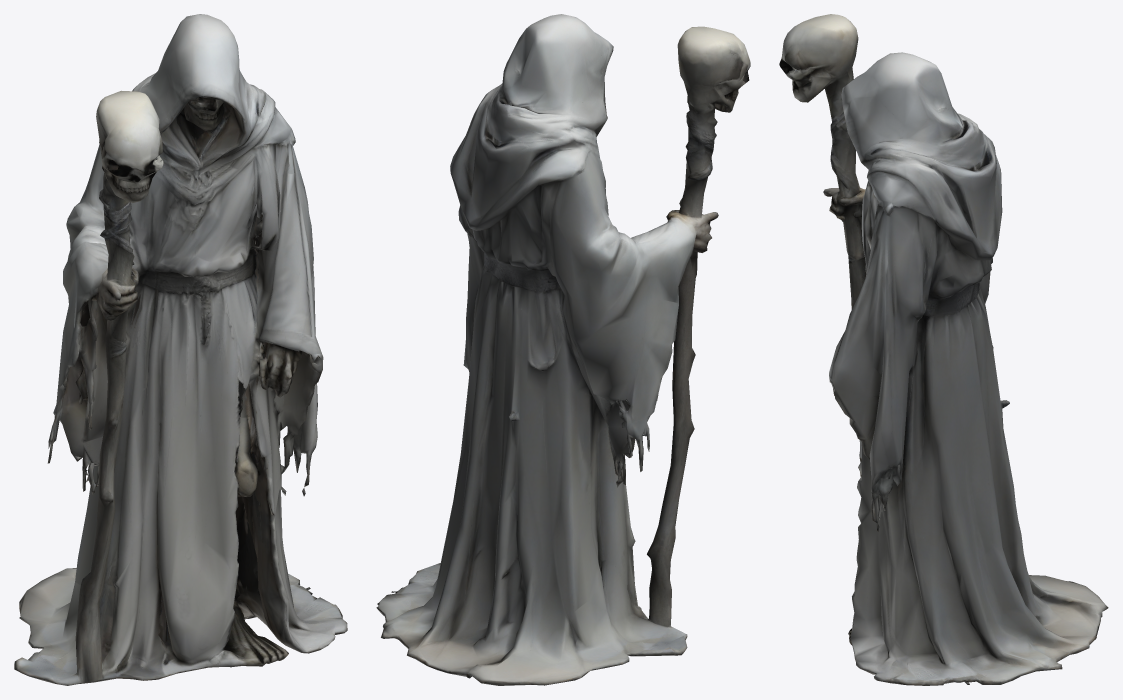
The model's file is Bishop.fbx.
3 renders of one model, left to right at view 1: azimuth 30°, elevation 25°; view 2: azimuth 150°, elevation 25°; view 3: azimuth 270°, elevation 25°, orthographic. The views are drawn at different scales.
Parts seen in each view (by area): view 1: Mesh_0; view 2: Mesh_0; view 3: Mesh_0.
Part boxes in pixels (bbox=[...]): Mesh_0: bbox=[14, 14, 347, 685]; Mesh_0: bbox=[376, 14, 750, 685]; Mesh_0: bbox=[779, 14, 1108, 685].
Size of the model in its own units: 101 by 200 by 105.
Materials: 1 (1 with a texture image).
